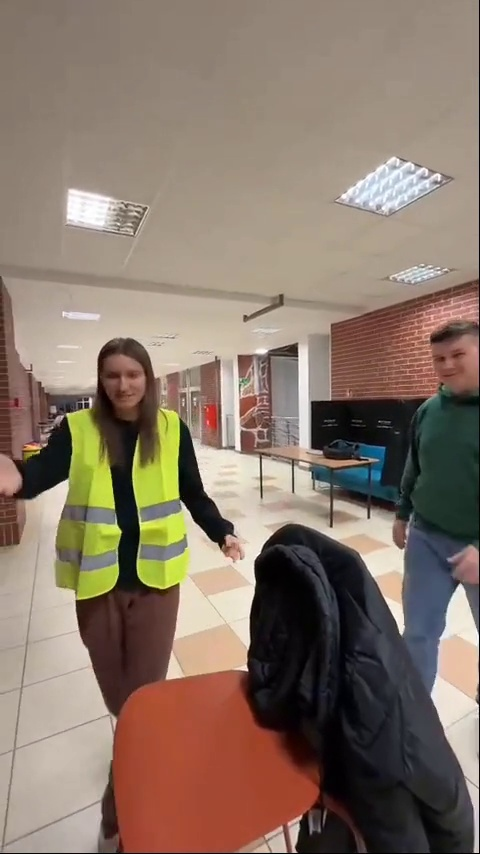no vest: (390, 311, 480, 746)
vest: (56, 333, 195, 713)
